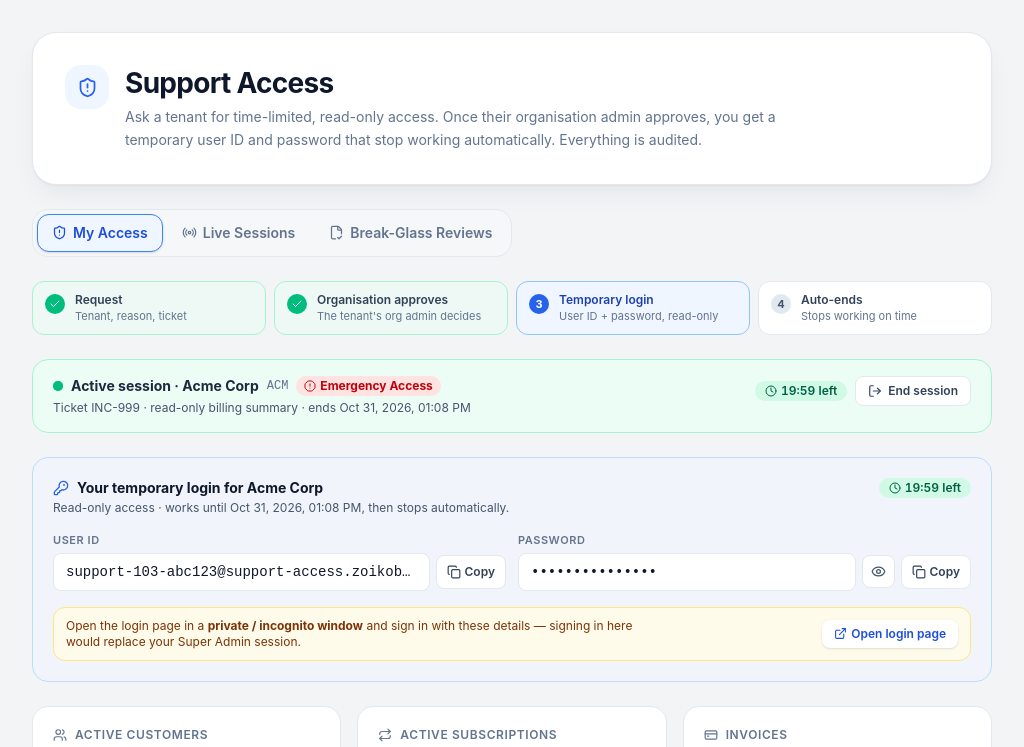
Scenario: SupportAccessPage (ZB-SEC-PRIV-001) › renders the active break-glass session with a readable summary
The width and height of the screenshot is (1024, 747).
Check: the text "Emergency Access" is shown, box [296, 376, 441, 396]
Check: the text "Active session · Acme Corp" is shown, box [71, 376, 259, 396]
Step 1. Click the button named "show password" → (878, 572), box [862, 555, 894, 588]
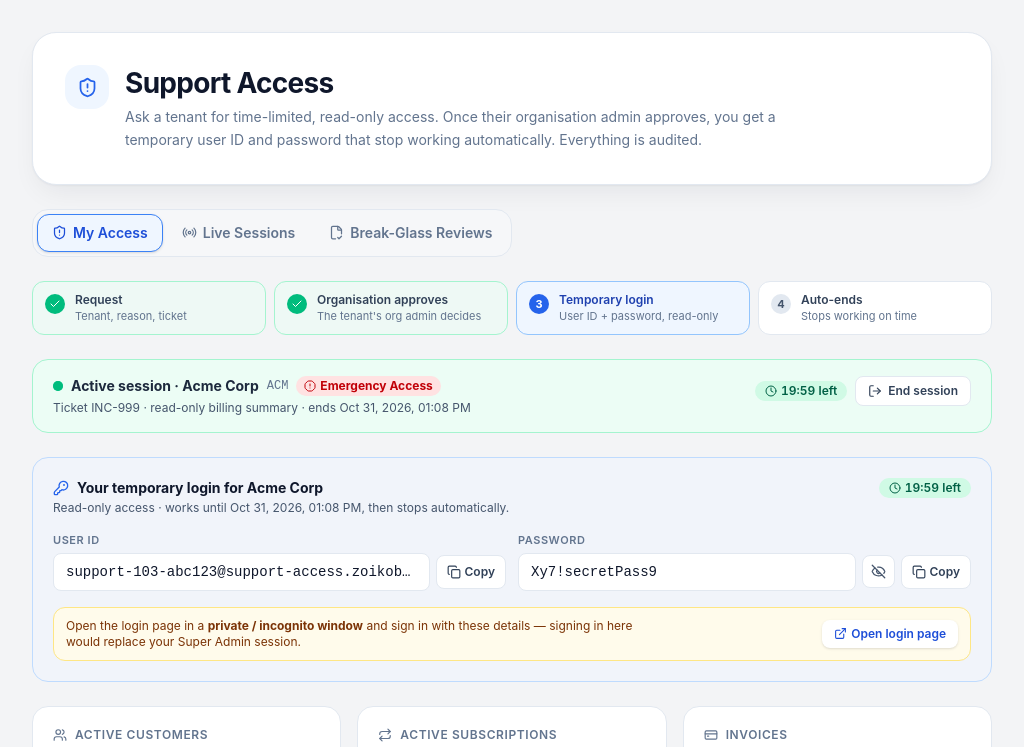
Check: the text "Xy7!secretPass9" is shown, box [518, 553, 856, 591]
